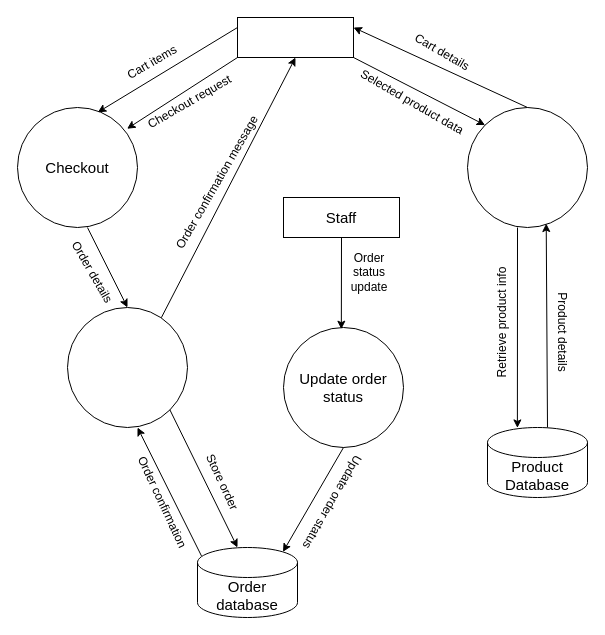
Image size: 605x635. Some labels were removed from this diagram. Here are the shapes that lost their labels. From the top down, the centre of each, then its label:
At point (295, 37): "User".
At point (527, 167): "Add to cart".
At point (127, 367): "Place order".
